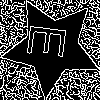E: (27, 22, 76, 61)
